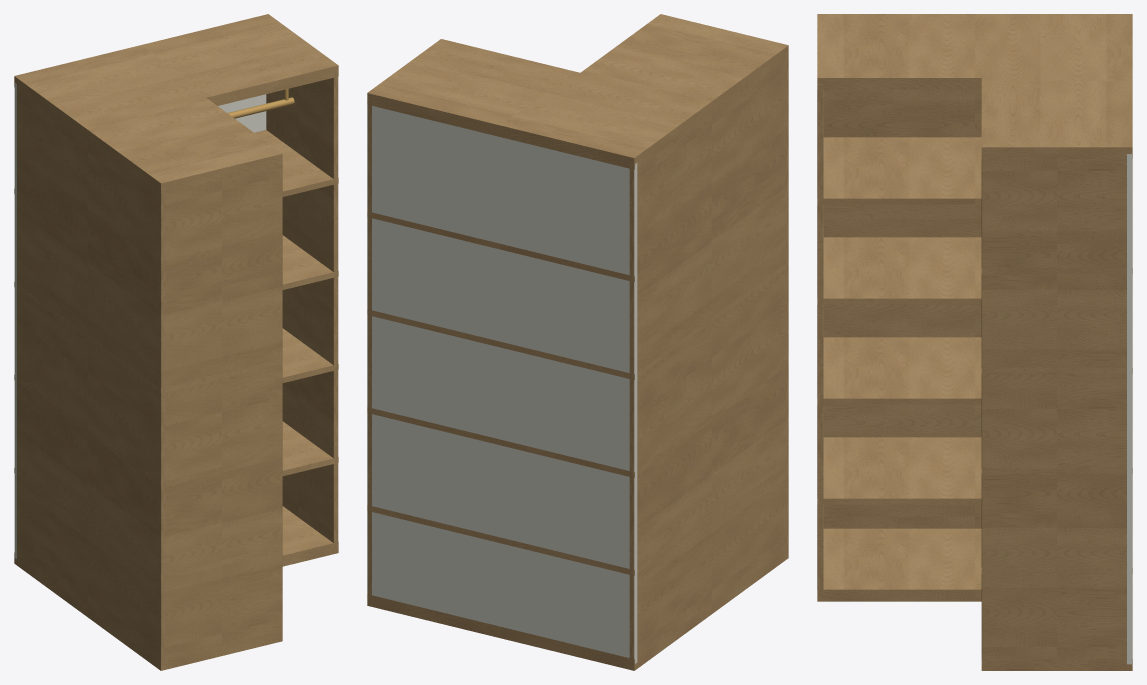
File: corner-closet-module-original-interior-furnishing.glb
3 views of the same model, side by side, from view 1: azimuth 30°, elevation 25°; view 2: azimuth 150°, elevation 25°; view 3: azimuth 270°, elevation 25° (orthographic). The views are drawn at different scales.
Parts seen in each view (by area): view 1: Corner left wall, Corner front end cheek, L-shaped corner cabinet slab.005, Corner short end cheek, L-shaped corner cabinet slab, L-shaped corner cabinet slab.004, L-shaped corner cabinet slab.001, L-shaped corner cabinet slab.002, L-shaped corner cabinet slab.003, Corner rear wall, Corner hanging rod; view 2: Corner rear wall, Corner left wall, L-shaped corner cabinet slab.005, L-shaped corner cabinet slab, L-shaped corner cabinet slab.002, L-shaped corner cabinet slab.004, L-shaped corner cabinet slab.001, L-shaped corner cabinet slab.003, Corner short end cheek, Corner front end cheek; view 3: Corner short end cheek, L-shaped corner cabinet slab.005, Corner left wall, L-shaped corner cabinet slab, L-shaped corner cabinet slab.001, L-shaped corner cabinet slab.002, L-shaped corner cabinet slab.003, L-shaped corner cabinet slab.004, Corner front end cheek, Corner rear wall.
Part boxes in pixels (bbox=[...]): Corner left wall: bbox=[17, 89, 165, 664]; Corner front end cheek: bbox=[158, 165, 282, 664]; L-shaped corner cabinet slab.005: bbox=[14, 14, 338, 194]; Corner short end cheek: bbox=[266, 72, 338, 547]; L-shaped corner cabinet slab: bbox=[14, 506, 338, 670]; L-shaped corner cabinet slab.004: bbox=[14, 130, 338, 301]; L-shaped corner cabinet slab.001: bbox=[14, 421, 338, 580]; L-shaped corner cabinet slab.002: bbox=[14, 328, 338, 487]; L-shaped corner cabinet slab.003: bbox=[14, 235, 338, 394]; Corner rear wall: bbox=[14, 83, 266, 558]; Corner hanging rod: bbox=[227, 97, 294, 118]; Corner rear wall: bbox=[367, 105, 637, 663]; Corner left wall: bbox=[629, 59, 785, 664]; L-shaped corner cabinet slab.005: bbox=[367, 14, 788, 169]; L-shaped corner cabinet slab: bbox=[367, 547, 788, 670]; L-shaped corner cabinet slab.002: bbox=[367, 359, 788, 477]; L-shaped corner cabinet slab.004: bbox=[367, 164, 788, 282]; L-shaped corner cabinet slab.001: bbox=[367, 457, 788, 575]; L-shaped corner cabinet slab.003: bbox=[367, 262, 788, 379]; Corner short end cheek: bbox=[367, 99, 371, 600]; Corner front end cheek: bbox=[786, 52, 788, 553]; Corner short end cheek: bbox=[981, 159, 1132, 658]; L-shaped corner cabinet slab.005: bbox=[817, 14, 1132, 158]; Corner left wall: bbox=[823, 89, 981, 528]; L-shaped corner cabinet slab: bbox=[817, 528, 1132, 670]; L-shaped corner cabinet slab.001: bbox=[817, 437, 1132, 573]; L-shaped corner cabinet slab.002: bbox=[817, 337, 1132, 473]; L-shaped corner cabinet slab.003: bbox=[817, 237, 1132, 373]; L-shaped corner cabinet slab.004: bbox=[817, 137, 1132, 273]; Corner front end cheek: bbox=[817, 84, 823, 594]; Corner rear wall: bbox=[1127, 154, 1132, 664].
Size of the model in its own units: 1.2 by 2.2 by 1.2.
3 materials, 3 textured.
